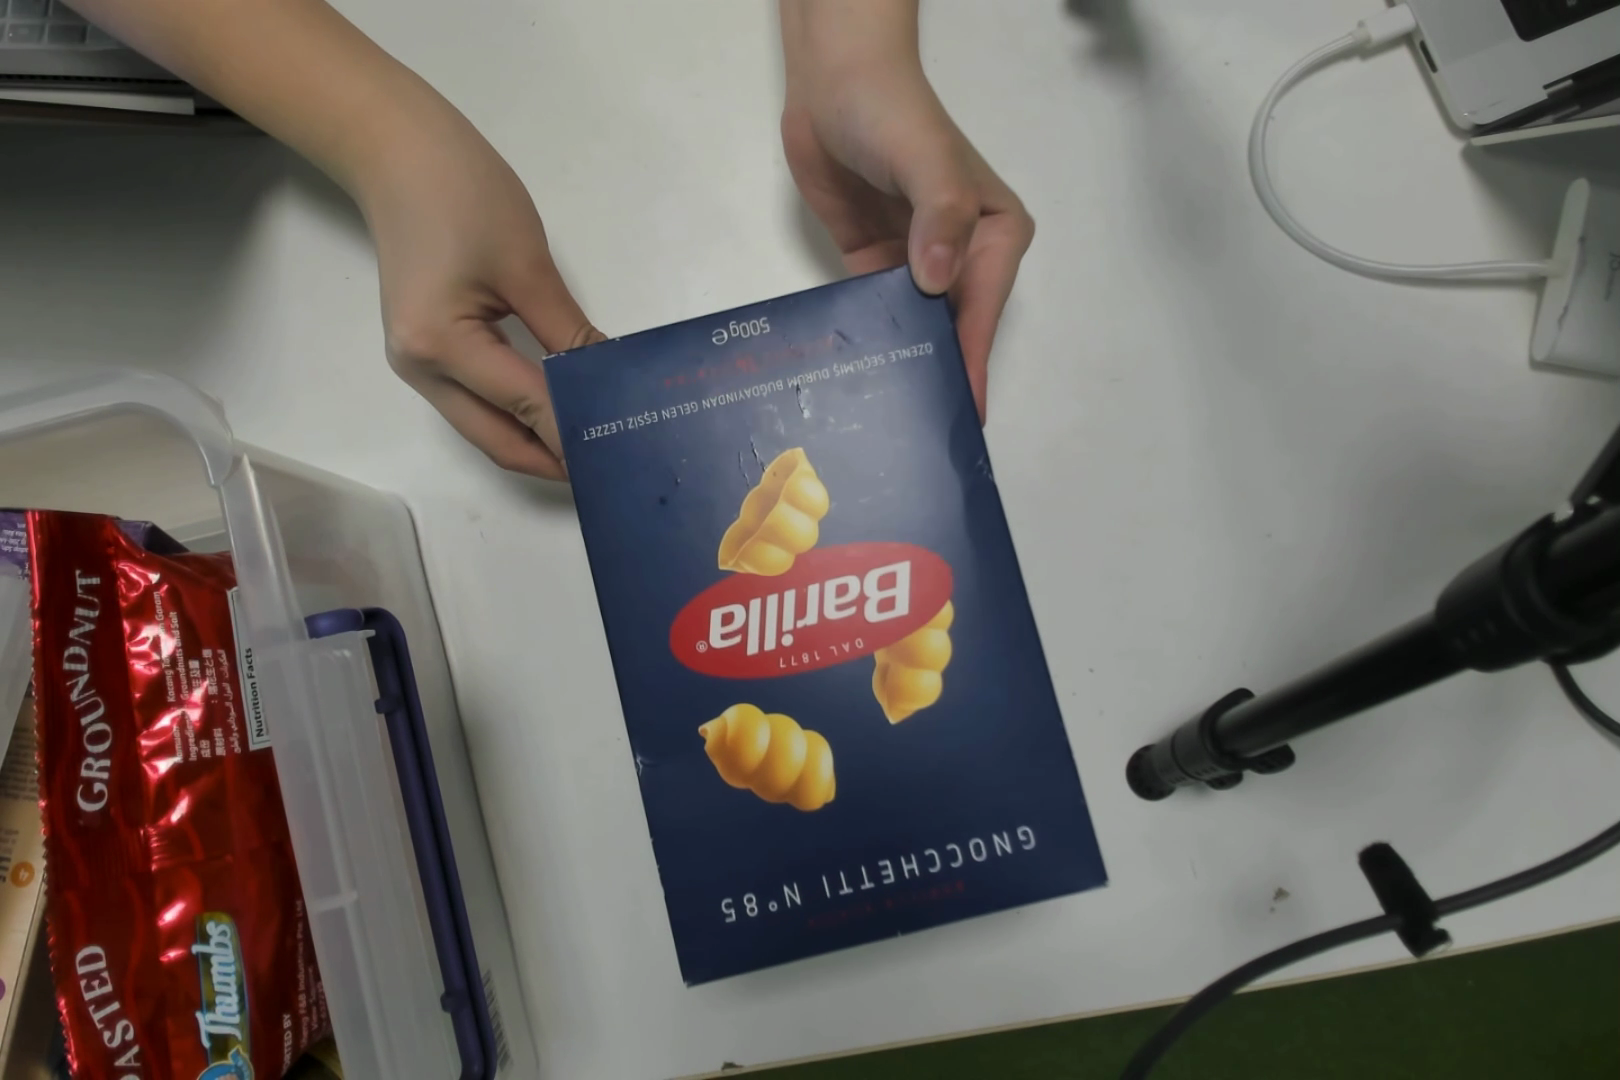Pasta_500-599g_NonHalal_NonHealthy: (604, 322, 1074, 946)
